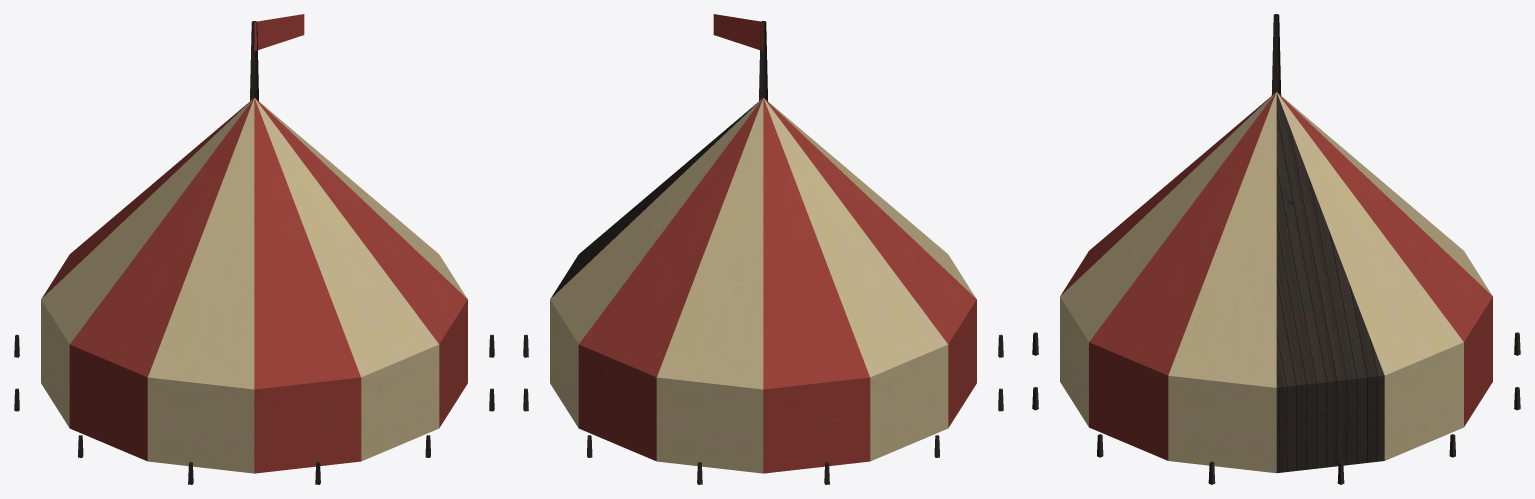
The model's file is tent_large_01.glb.
3 views of the same model, side by side, from view 1: azimuth 30°, elevation 25°; view 2: azimuth 150°, elevation 25°; view 3: azimuth 270°, elevation 25° (orthographic).
Parts seen in each view (by area): view 1: tent_large_01; view 2: tent_large_01; view 3: tent_large_01.
Part boxes in pixels (box(x1,y1,x2,y2)): tent_large_01: box(14, 14, 494, 484); tent_large_01: box(523, 14, 1003, 484); tent_large_01: box(1032, 14, 1520, 484).
Size of the model in its own units: 5.19 by 4.3 by 5.19.
3 materials, 3 textured.
